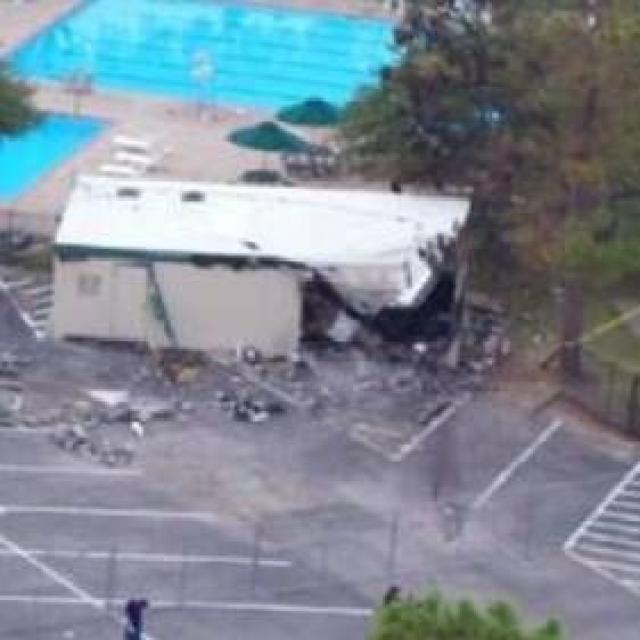collapsed_building: (36, 173, 462, 349)
